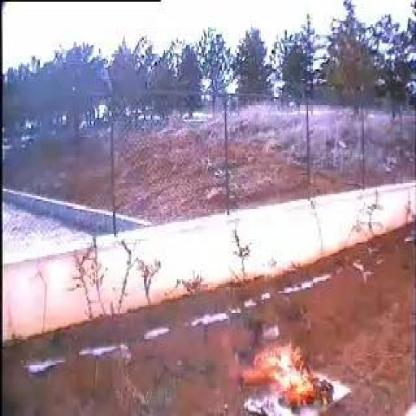-: (251, 323, 266, 346)
foggia-v2-map80-epoch100 - v1 4323: (254, 347, 323, 407)
